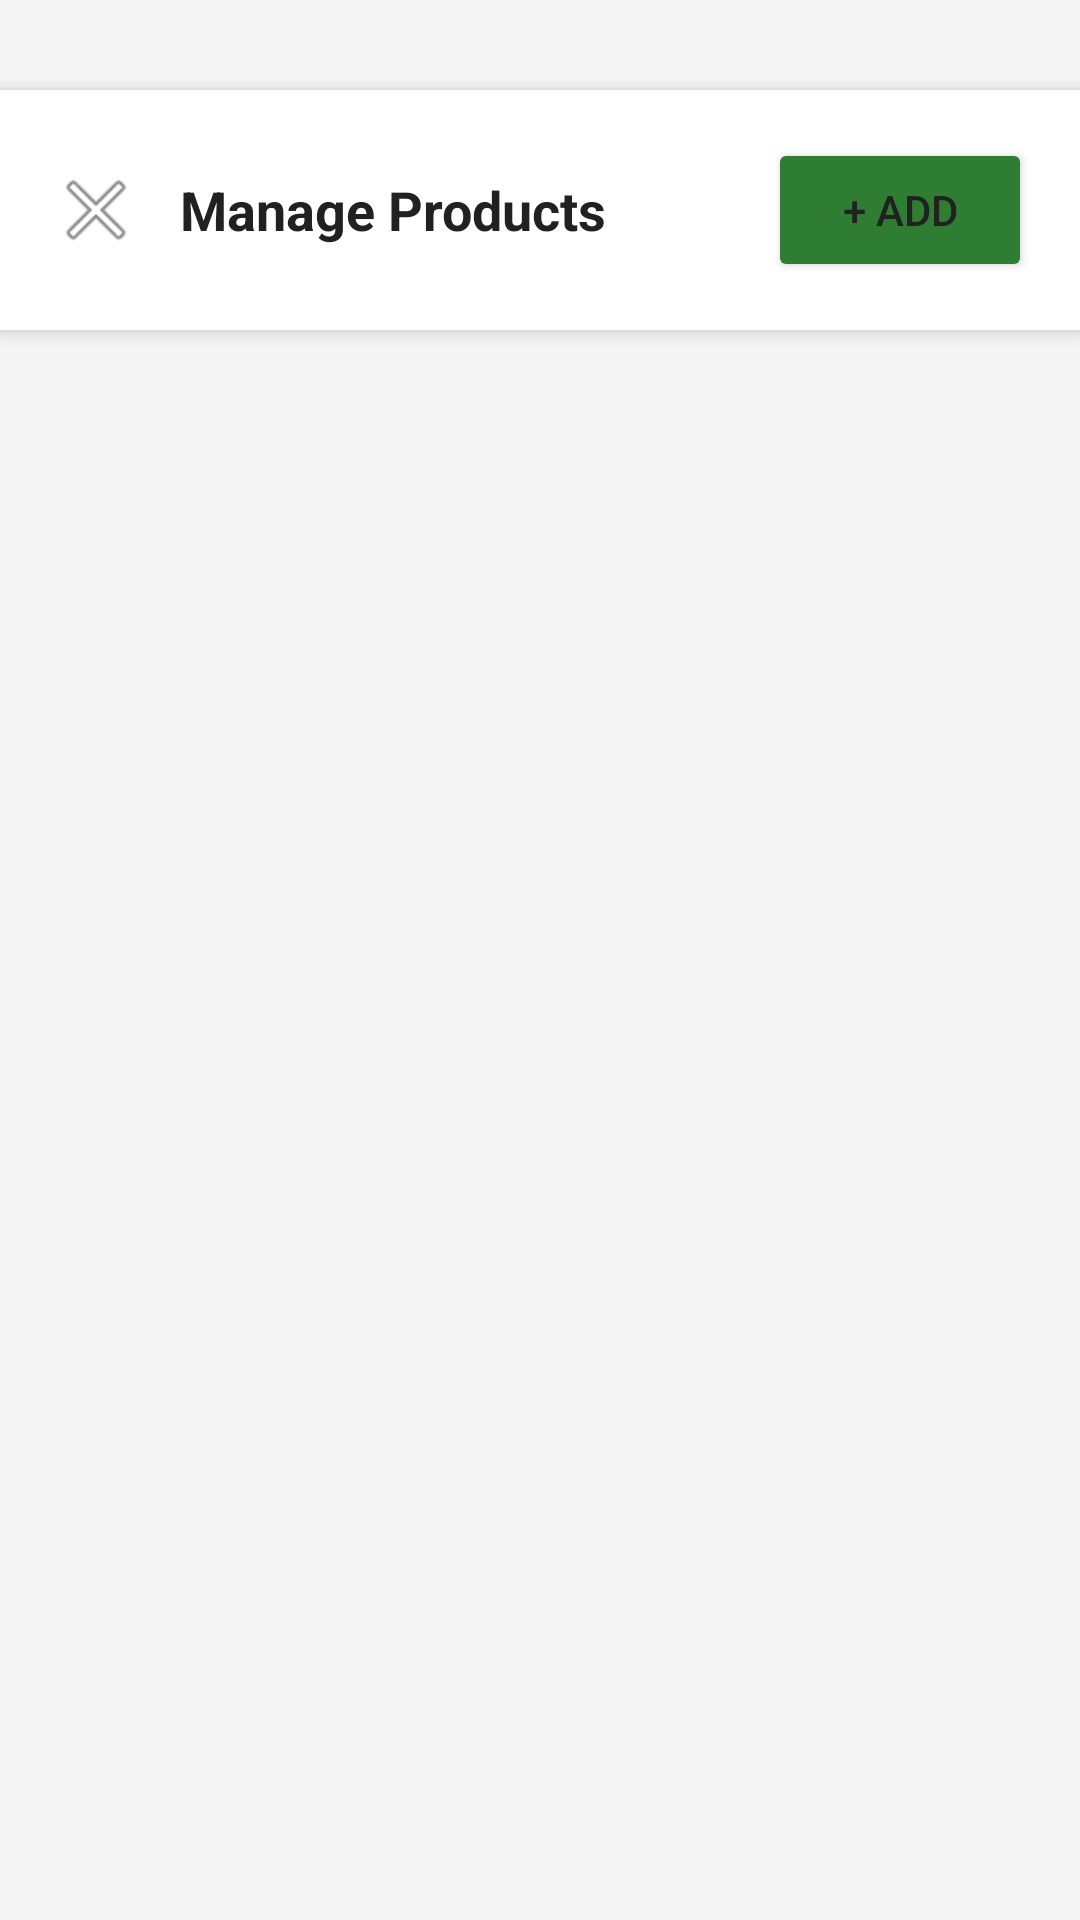

Point at icon controls on the screen. Image size 1080px×1920px, points as point (x, y).
close clear cancel: point (96, 210)
